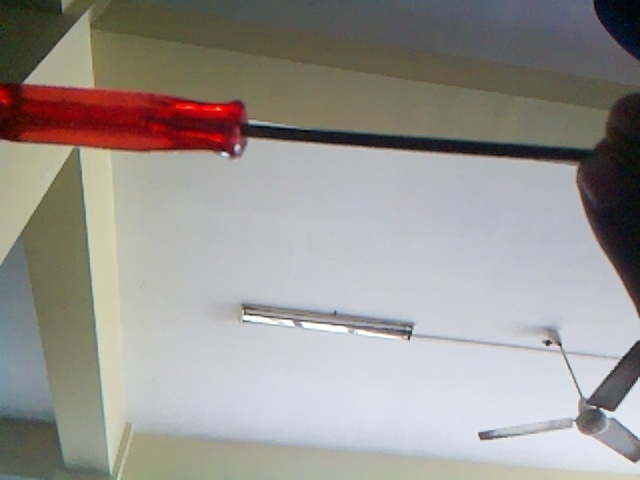redskrew: (1, 72, 579, 187)
